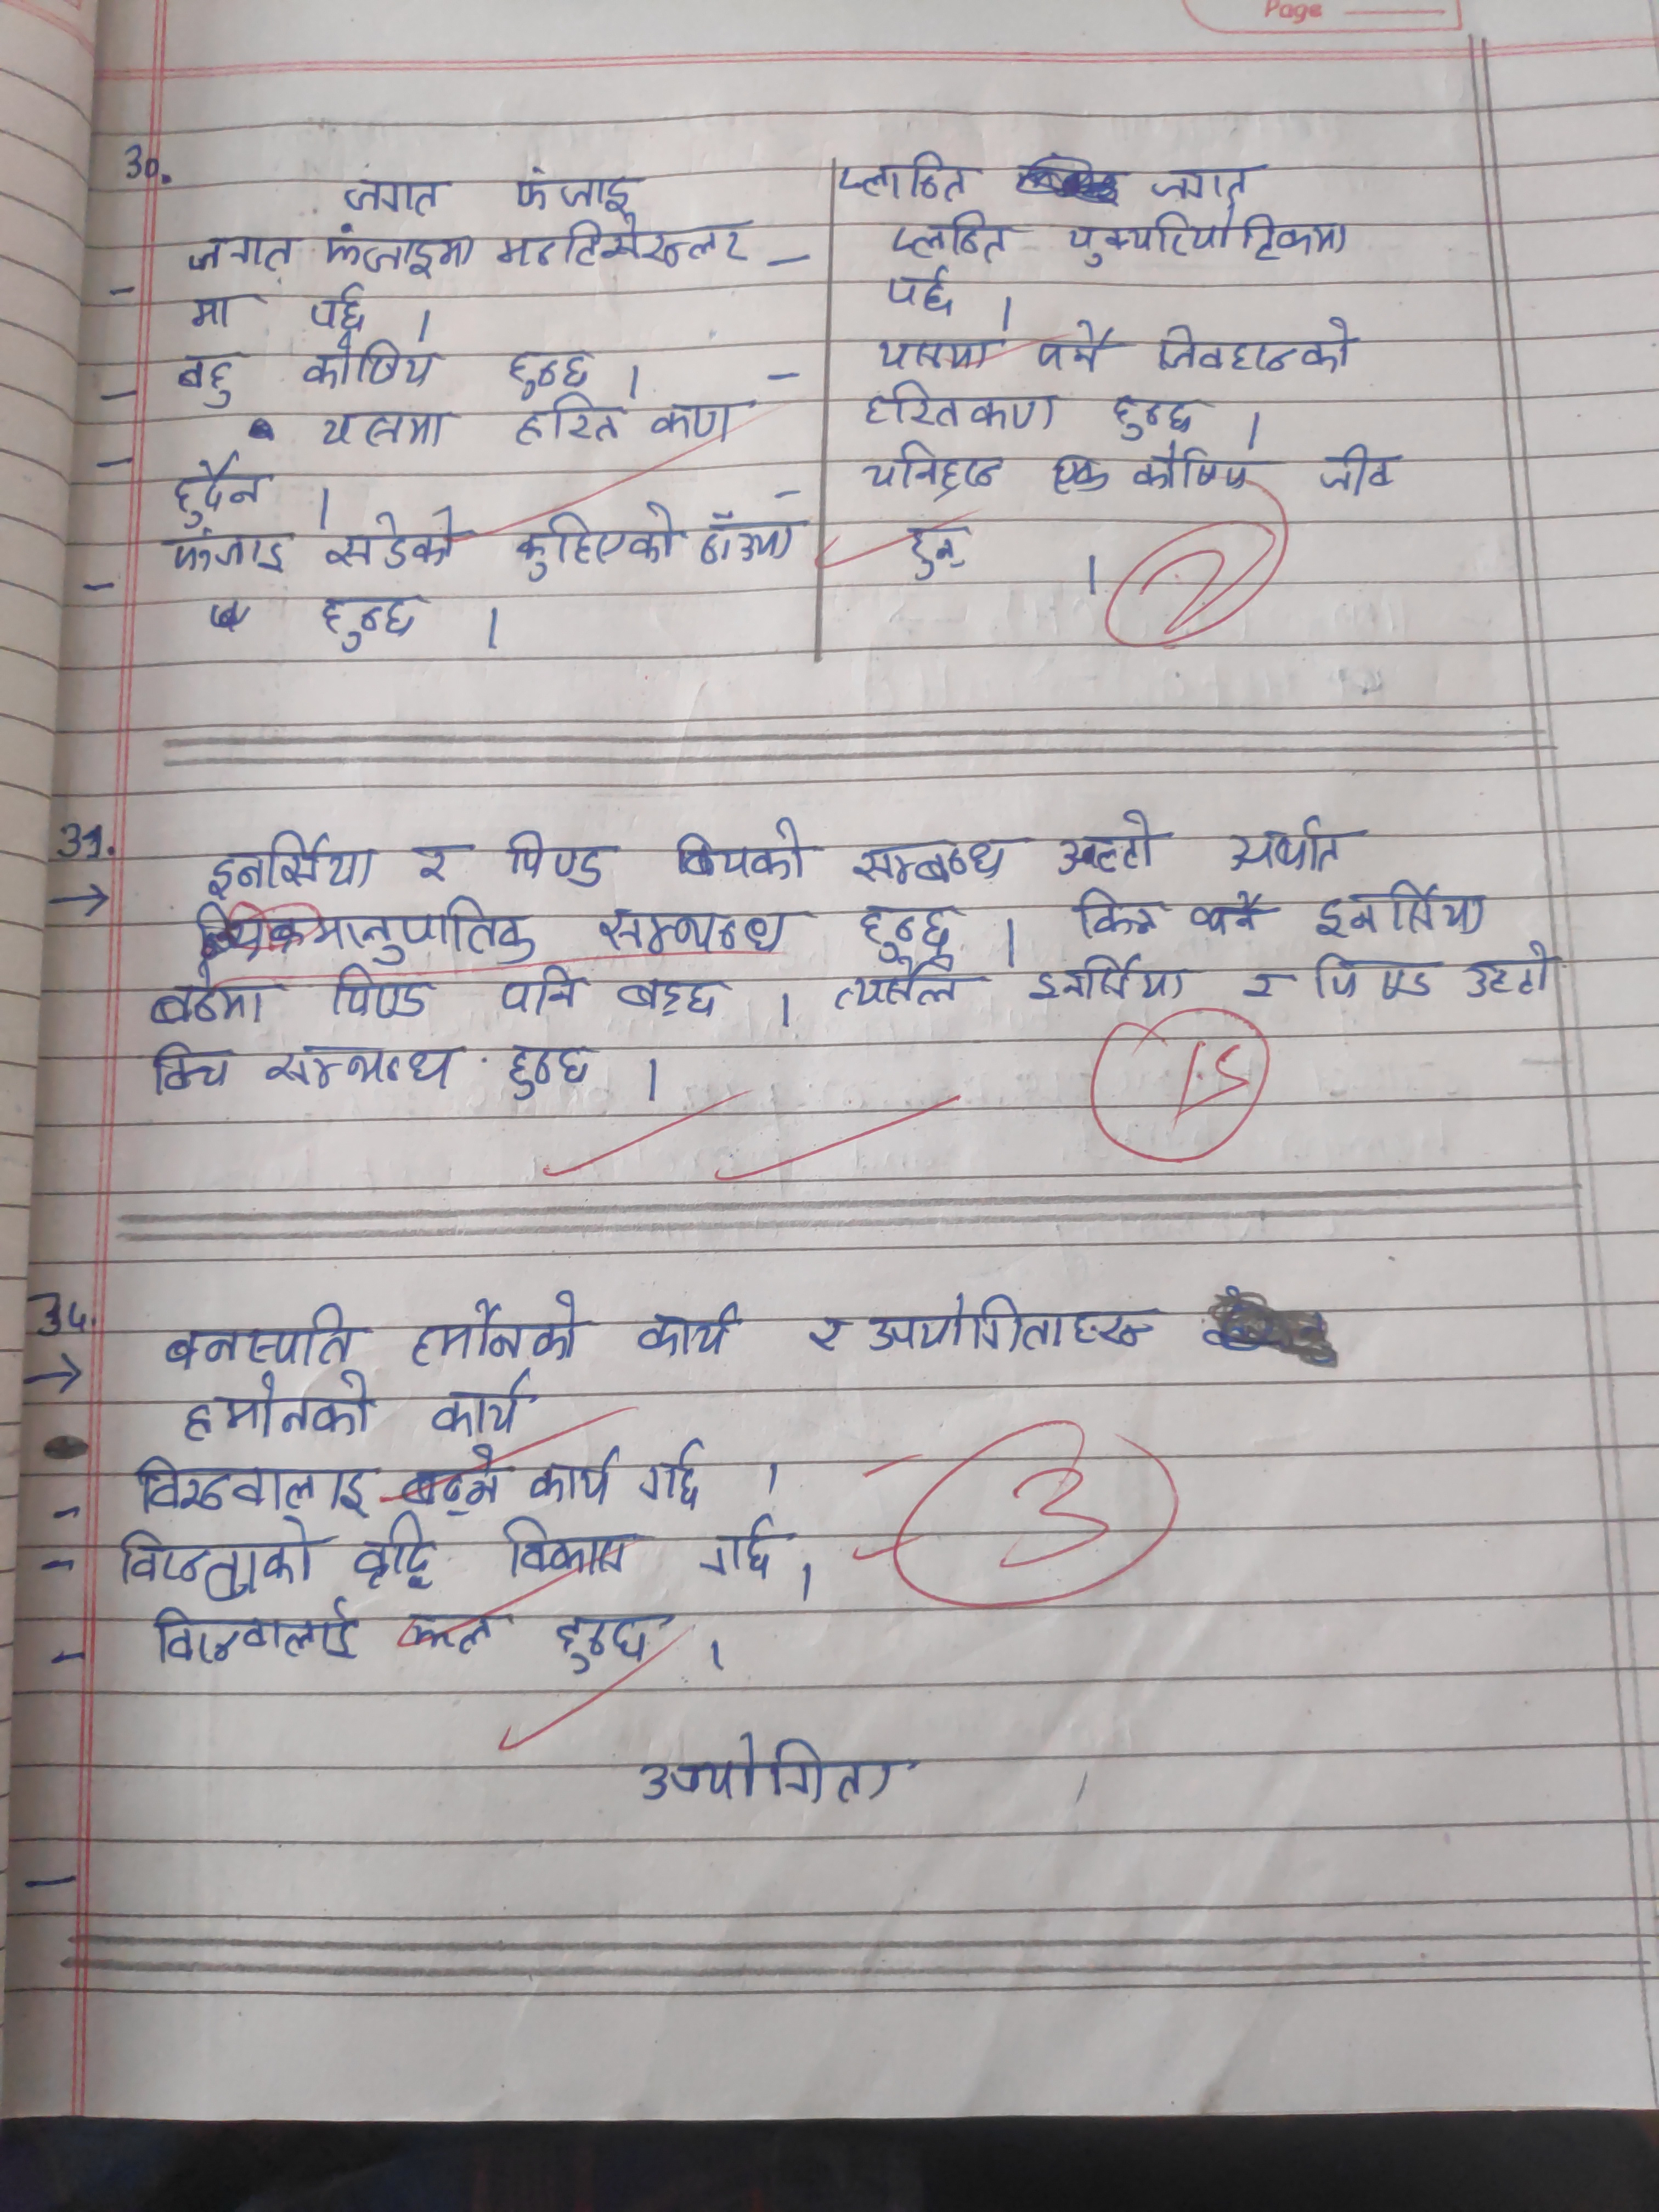text: (186, 894, 544, 970), (643, 1730, 904, 1811), (864, 1289, 1164, 1355), (1068, 209, 1356, 268), (131, 1451, 373, 1519), (141, 1597, 362, 1669), (117, 1522, 321, 1599), (160, 1299, 357, 1374), (490, 218, 755, 270), (204, 824, 383, 900), (406, 1287, 577, 1367), (516, 502, 680, 583), (179, 1376, 380, 1440), (1154, 315, 1358, 376), (261, 1038, 469, 1096), (1307, 878, 1493, 941), (863, 376, 1058, 432), (592, 904, 802, 954), (849, 831, 1021, 890), (666, 815, 814, 883), (322, 507, 464, 575), (1225, 810, 1356, 883), (502, 1514, 647, 1578), (551, 1602, 674, 1676), (1127, 435, 1265, 500), (1025, 953, 1194, 1005), (315, 230, 481, 280), (1054, 803, 1161, 881), (863, 441, 1006, 498), (833, 150, 983, 204), (498, 826, 612, 897), (303, 334, 443, 392), (429, 1369, 544, 1439), (347, 1519, 448, 1597), (314, 585, 423, 657), (1307, 946, 1436, 1005), (160, 528, 298, 582), (167, 455, 268, 528), (150, 968, 270, 1029), (401, 1442, 504, 1512), (613, 963, 730, 1024), (889, 209, 1025, 261), (690, 502, 798, 564), (852, 897, 958, 960), (638, 1294, 741, 1359), (514, 165, 645, 216), (835, 967, 965, 1015), (528, 1447, 624, 1512), (1068, 885, 1171, 944), (1464, 939, 1560, 1001), (329, 961, 429, 1021), (310, 409, 457, 449), (507, 1038, 598, 1103), (1147, 153, 1265, 202), (401, 1602, 502, 1658), (183, 230, 307, 273), (502, 345, 598, 401), (1314, 441, 1403, 500), (1105, 388, 1204, 441), (498, 963, 587, 1021), (648, 395, 746, 448), (873, 331, 995, 373), (514, 399, 622, 446), (148, 1040, 234, 1099), (1033, 320, 1122, 376), (643, 1433, 706, 1512), (704, 1519, 784, 1580), (169, 348, 246, 411), (897, 519, 974, 582), (338, 174, 450, 216), (1188, 890, 1267, 946), (885, 265, 960, 320), (1051, 449, 1108, 503), (308, 280, 369, 331), (183, 293, 254, 333), (410, 834, 465, 883), (1239, 965, 1291, 1008), (805, 1317, 847, 1359)
